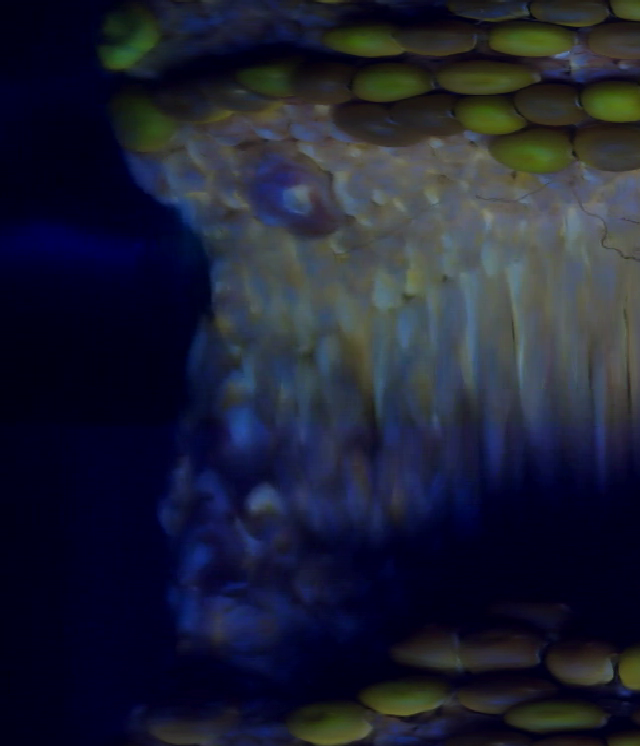fluorescent: (357, 673, 448, 716), (429, 62, 532, 98), (506, 695, 600, 733), (99, 10, 157, 71), (103, 97, 163, 153), (579, 72, 640, 127), (315, 23, 405, 59), (487, 134, 570, 171), (455, 95, 525, 136), (487, 24, 573, 56), (350, 63, 428, 98), (238, 53, 296, 100), (292, 705, 363, 743), (610, 1, 640, 29)
nonfluorescent: (152, 656, 231, 746), (244, 158, 328, 229), (150, 69, 225, 126), (466, 623, 541, 671), (512, 76, 584, 124), (193, 62, 255, 116), (329, 95, 403, 139), (557, 639, 619, 689), (576, 123, 640, 168), (451, 678, 545, 705), (400, 24, 470, 59), (297, 63, 344, 113), (405, 631, 461, 671), (583, 20, 640, 53), (524, 2, 600, 26), (399, 102, 450, 137), (454, 1, 522, 27)
